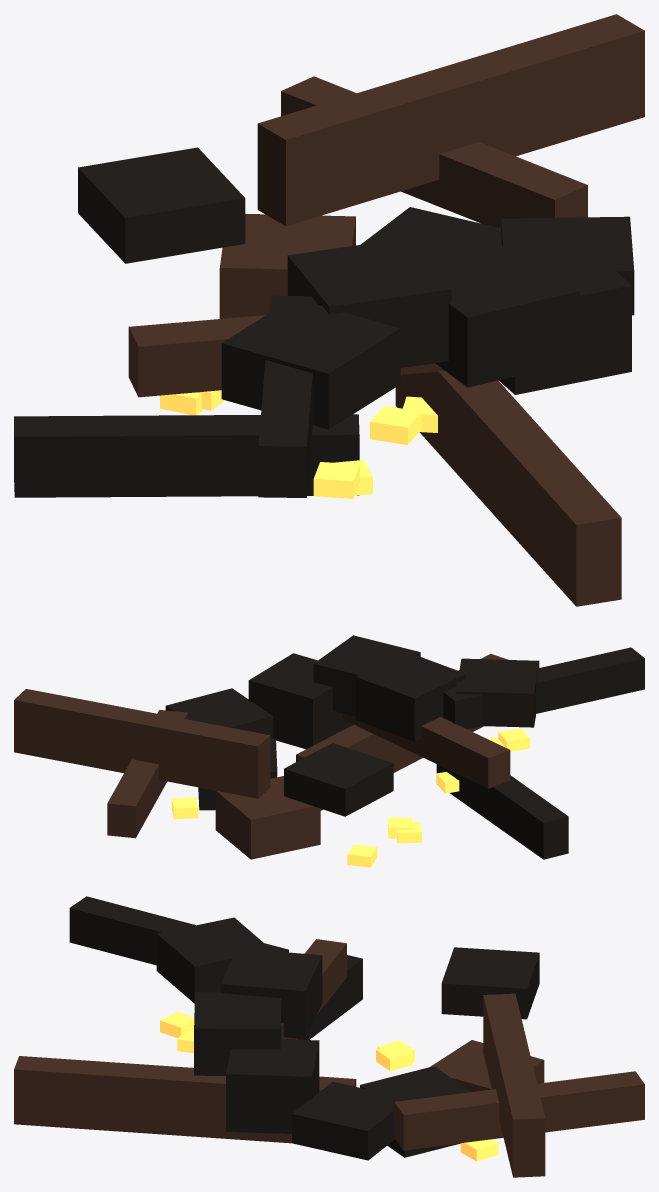
The model's file is cl-wreck.glb.
3 views of the same model, one above another, from view 1: azimuth 30°, elevation 25°; view 2: azimuth 150°, elevation 25°; view 3: azimuth 270°, elevation 25° (orthographic). The views are drawn at different scales.
Visible parts, largest first — view 1: wreck-debris, wreck-embers; view 2: wreck-debris, wreck-embers; view 3: wreck-debris, wreck-embers.
Boxes of the visible parts, box(x1,y1,x2,y2) form: wreck-debris: box(14, 14, 644, 606); wreck-embers: box(160, 390, 437, 498); wreck-debris: box(14, 635, 644, 859); wreck-embers: box(171, 728, 529, 867); wreck-debris: box(14, 896, 644, 1177); wreck-embers: box(160, 1011, 498, 1161).
Bounding box in the file's own units: 5.46 × 1.38 × 5.83.
